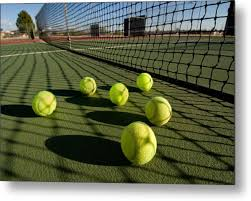tennis_ball: (120, 122, 157, 168), (144, 96, 172, 126), (31, 90, 57, 117), (109, 82, 129, 106), (136, 71, 153, 93), (79, 76, 96, 97)
